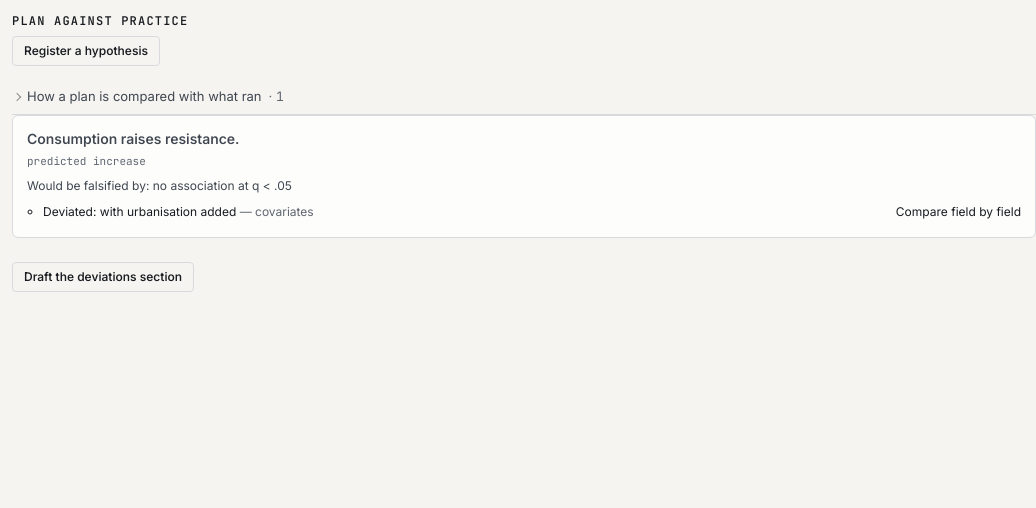
Test case: one registration against one analysis › shows what matched as well as what differed
Click the button "Compare field by field": (958, 212) [896,203,1021,221]
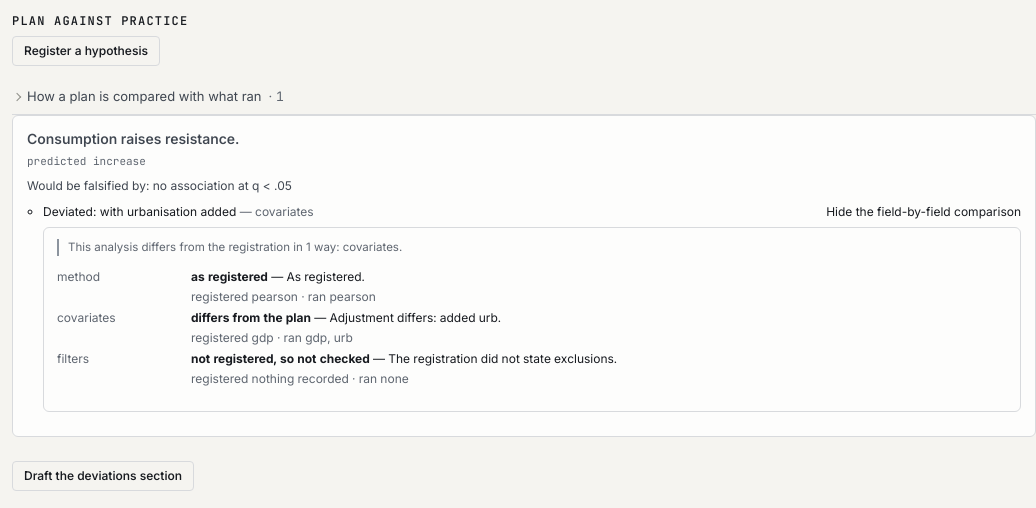
expect the text "as registered" is shown: met, box [191,269,268,284]
expect the text "differs from the plan" is shown: met, box [191,310,311,325]
expect the text "not registered, so not checked" is shown: met, box [191,351,370,366]
